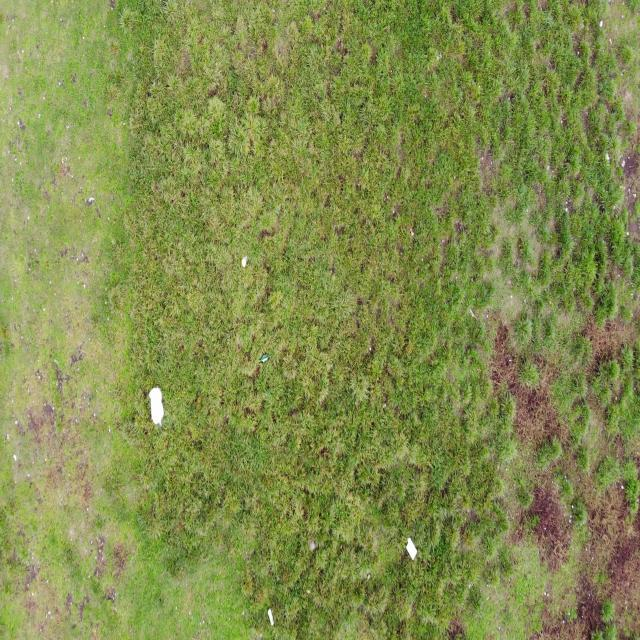rubbish: (149, 384, 164, 426), (404, 535, 420, 561), (266, 605, 275, 627), (240, 256, 248, 271), (259, 353, 269, 364)
